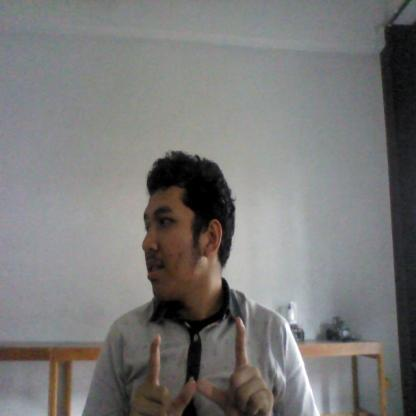W: (132, 314, 275, 414)
